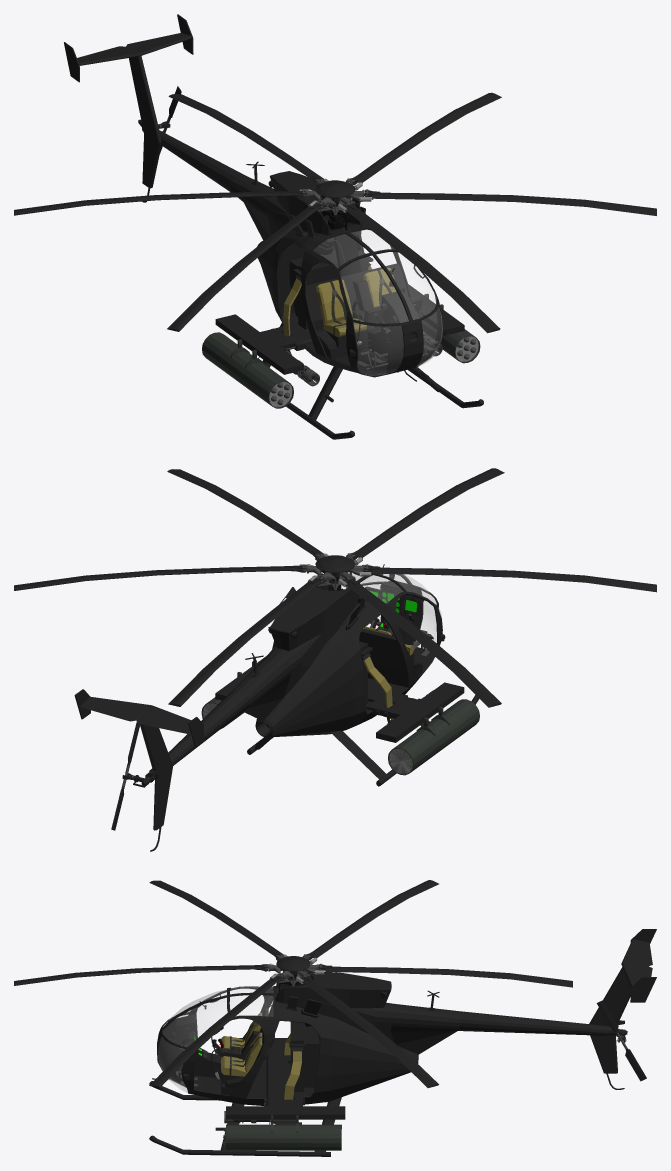
Rendered from littlebird.glb.
3 renders of one model, top to bottom at view 1: azimuth 30°, elevation 25°; view 2: azimuth 150°, elevation 25°; view 3: azimuth 270°, elevation 25°, orthographic. The views are drawn at different scales.
Parts seen in each view (by area): view 1: Fuselage, Rotor_Main, Canopy, Object_7, Object_8, Object_9, Object_11; view 2: Fuselage, Rotor_Main, Object_7, Object_8, Canopy, Object_10; view 3: Fuselage, Rotor_Main, Object_7, Object_8, Canopy, Object_9, Rotor_Tail.
Part boxes in pixels (box(x1,y1,x2,y2)): Fuselage: box(64, 14, 483, 439); Rotor_Main: box(14, 92, 656, 333); Canopy: box(313, 230, 442, 375); Object_7: box(215, 249, 464, 374); Object_8: box(202, 320, 480, 408); Object_9: box(316, 206, 445, 381); Object_11: box(352, 288, 437, 369); Fuselage: box(74, 571, 479, 851); Rotor_Main: box(14, 468, 656, 707); Object_7: box(215, 641, 464, 742); Object_8: box(201, 690, 479, 775); Canopy: box(341, 572, 441, 647); Object_10: box(365, 585, 421, 635); Fuselage: box(149, 929, 656, 1156); Rotor_Main: box(14, 880, 572, 1088); Object_7: box(226, 1021, 345, 1132); Object_8: box(223, 1052, 341, 1150); Canopy: box(158, 986, 273, 1092); Object_9: box(152, 982, 303, 1079); Rotor_Tail: box(596, 1000, 646, 1081).
Bounding box in the file's own units: 8.42 × 3.29 × 11.
2 materials, 1 textured.
